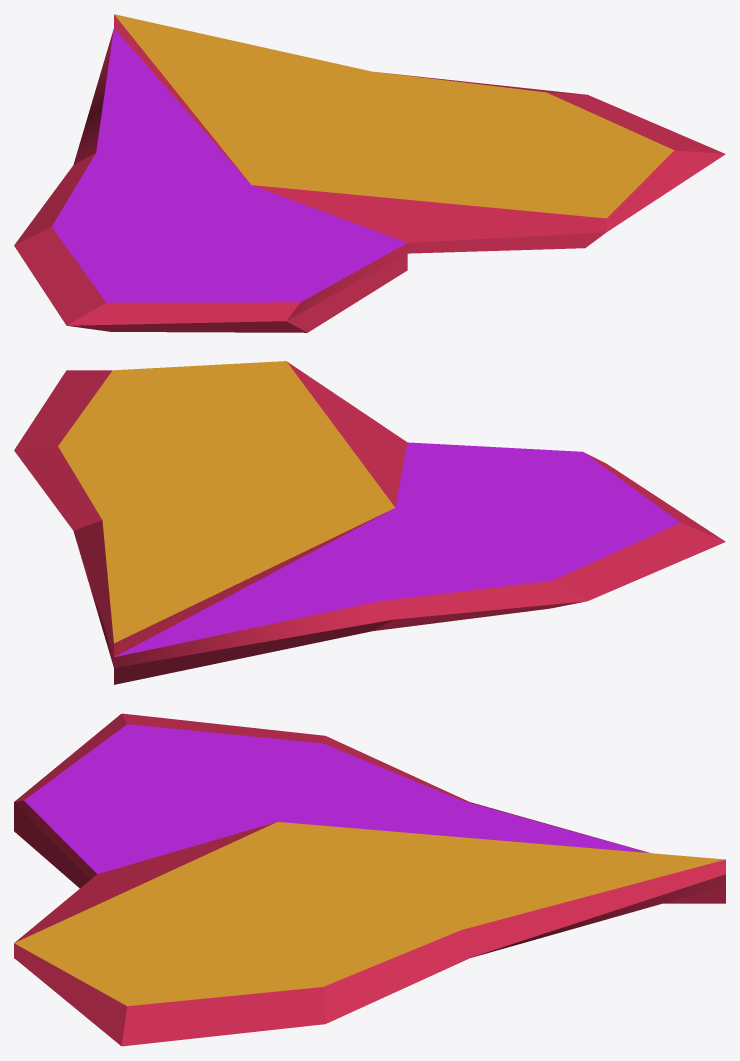
Rendered from Korea - Coloured Hearts 1.FBX.
The picture shows the model from 3 angles, top to bottom: view 1: azimuth 30°, elevation 25°; view 2: azimuth 150°, elevation 25°; view 3: azimuth 270°, elevation 25°; orthographic projection. The views are drawn at different scales.
Parts seen in each view (by area): view 1: Box001; view 2: Box001; view 3: Box001.
Boxes of the visible parts, <box> form: Box001: <box>14,14,725,332</box>; Box001: <box>14,361,725,684</box>; Box001: <box>14,713,725,1046</box>.
Bounding box in the file's own units: 59.18 × 51.69 × 3.55.
